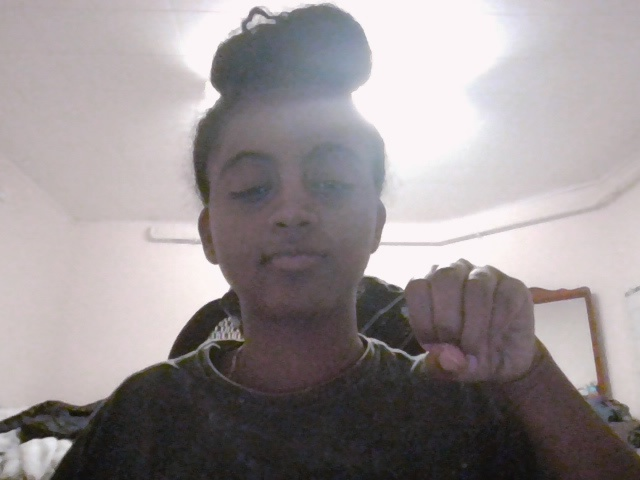Yes: (387, 258, 557, 381)
